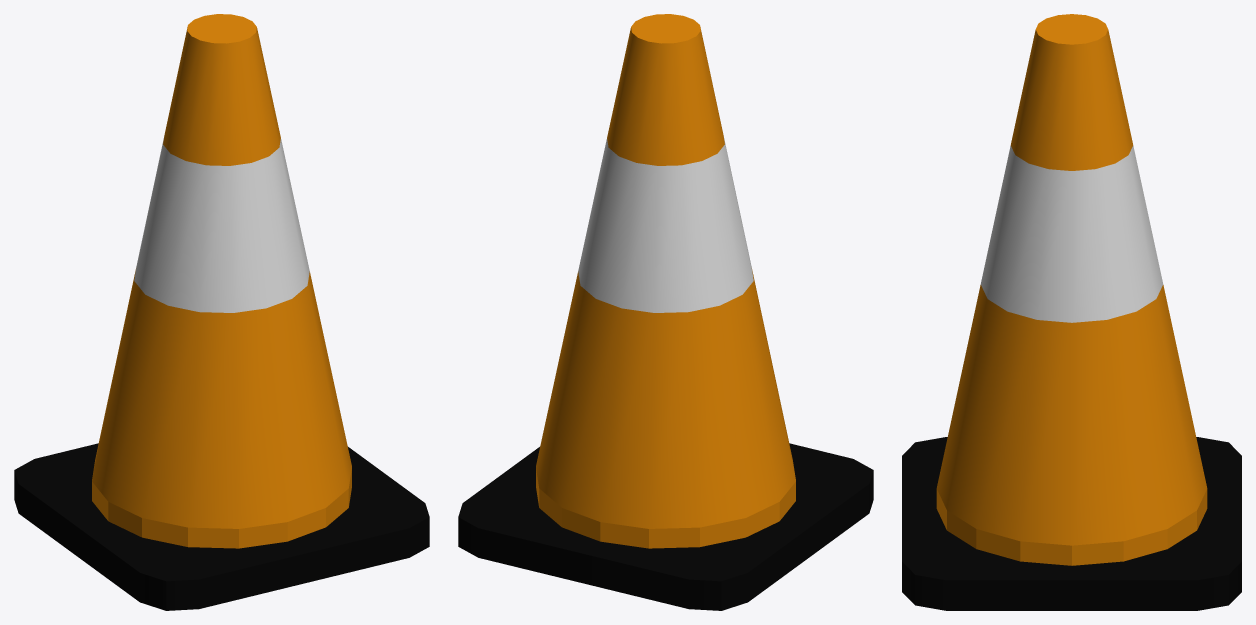
The picture shows the model from 3 angles, left to right: view 1: azimuth 30°, elevation 25°; view 2: azimuth 150°, elevation 25°; view 3: azimuth 270°, elevation 25°; orthographic projection. The views are drawn at different scales.
Parts seen in each view (by area): view 1: cone, cone_base; view 2: cone, cone_base; view 3: cone, cone_base.
Part boxes in pixels (box(x1,y1,x2,y2)): cone: box(92, 14, 351, 548); cone_base: box(14, 443, 429, 610); cone: box(536, 14, 795, 548); cone_base: box(458, 443, 873, 610); cone: box(936, 14, 1207, 565); cone_base: box(902, 437, 1241, 610).
Size of the model in its own units: 2.51 by 4.16 by 2.51.
